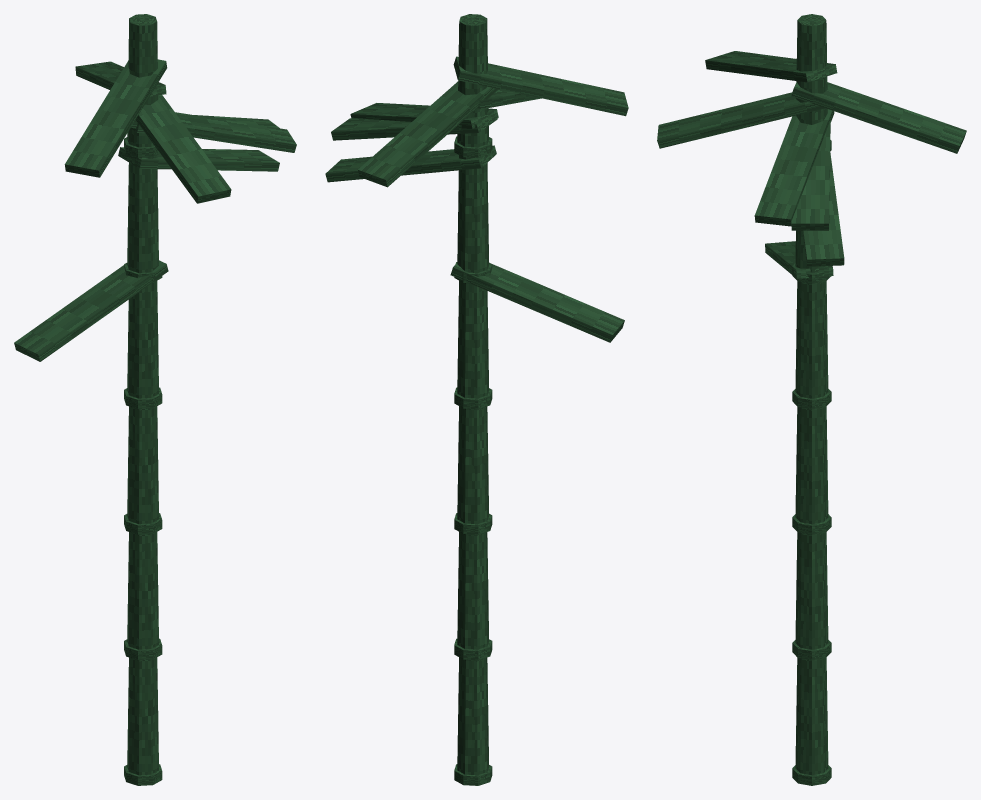
File: bamboo_25.glb
3 views of the same model, side by side, from view 1: azimuth 30°, elevation 25°; view 2: azimuth 150°, elevation 25°; view 3: azimuth 270°, elevation 25° (orthographic).
Parts seen in each view (by area): view 1: Leaf.002, Leaf.001, Leaf.004, Stem.001, Stem, Stem.002, Stem.003, Stem.004, Leaf.005, Stem.005, Leaf, Leaf.006; view 2: Leaf.006, Leaf.001, Leaf.002, Stem.001, Stem, Stem.002, Stem.003, Stem.004, Stem.005, Leaf, Leaf.003, Leaf.005 (+1 smaller); view 3: Leaf.005, Leaf.006, Leaf.004, Stem.002, Stem, Stem.001, Stem.003, Stem.005, Leaf.003, Leaf.002, Leaf, Leaf.001.
Boxes of the visible parts, x1=… form: Leaf.002: x1=64, y1=59, x2=167, y2=177; Leaf.001: x1=14, y1=260, x2=168, y2=361; Leaf.004: x1=135, y1=95, x2=231, y2=203; Stem.001: x1=127, y1=532, x2=158, y2=649; Stem: x1=127, y1=657, x2=158, y2=775; Stem.002: x1=127, y1=406, x2=158, y2=523; Stem.003: x1=127, y1=281, x2=158, y2=398; Stem.004: x1=127, y1=155, x2=158, y2=272; Leaf.005: x1=131, y1=112, x2=296, y2=152; Stem.005: x1=127, y1=14, x2=158, y2=147; Leaf: x1=118, y1=147, x2=279, y2=171; Leaf.006: x1=75, y1=61, x2=166, y2=96; Leaf.006: x1=358, y1=81, x2=498, y2=187; Leaf.001: x1=450, y1=262, x2=624, y2=342; Leaf.002: x1=453, y1=56, x2=628, y2=116; Stem.001: x1=457, y1=532, x2=488, y2=649; Stem: x1=457, y1=657, x2=488, y2=775; Stem.002: x1=457, y1=406, x2=488, y2=524; Stem.003: x1=457, y1=280, x2=488, y2=398; Stem.004: x1=457, y1=155, x2=488, y2=272; Stem.005: x1=457, y1=14, x2=488, y2=147; Leaf: x1=325, y1=145, x2=496, y2=182; Leaf.003: x1=331, y1=118, x2=497, y2=140; Leaf.005: x1=350, y1=103, x2=498, y2=128; Leaf.005: x1=754, y1=109, x2=834, y2=226; Leaf.006: x1=791, y1=82, x2=966, y2=153; Leaf.004: x1=657, y1=92, x2=825, y2=148; Stem.002: x1=795, y1=406, x2=828, y2=524; Stem: x1=795, y1=657, x2=828, y2=775; Stem.001: x1=795, y1=532, x2=828, y2=649; Stem.003: x1=795, y1=281, x2=828, y2=398; Stem.005: x1=796, y1=14, x2=827, y2=124; Leaf.003: x1=791, y1=120, x2=830, y2=230; Leaf.002: x1=705, y1=51, x2=837, y2=82; Leaf: x1=802, y1=153, x2=844, y2=266; Leaf.001: x1=765, y1=241, x2=833, y2=278.
Size of the model in its own units: 1.5 by 4.04 by 1.5.
Materials: 1 (1 with a texture image).
